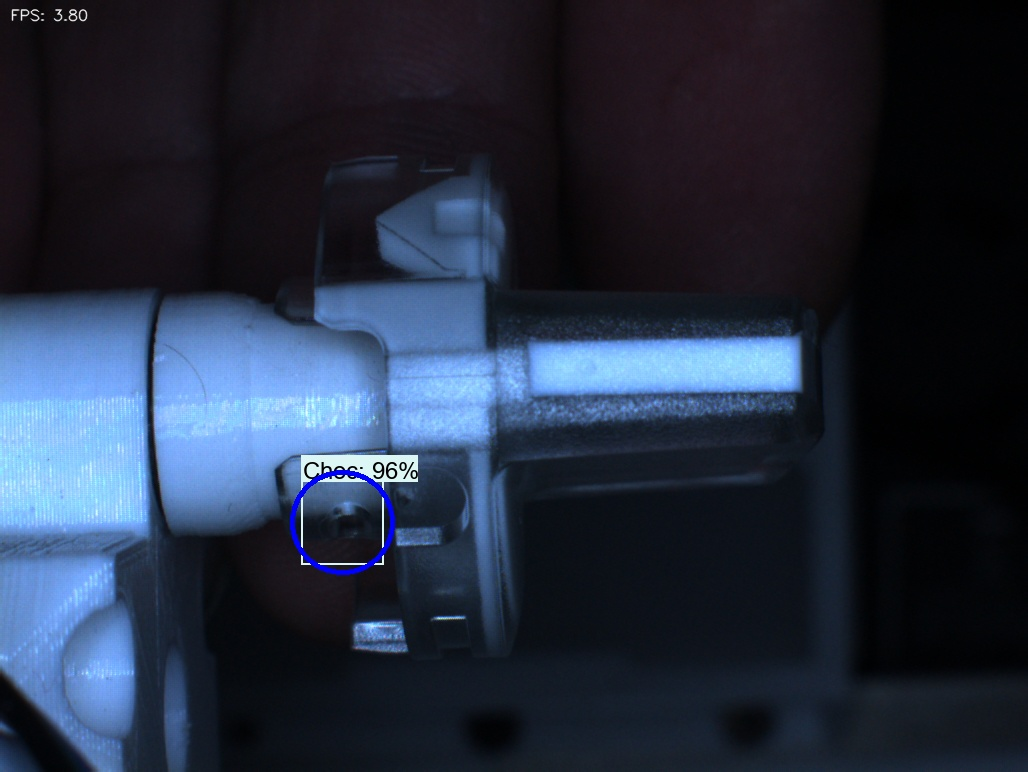DentOk: (350, 185, 425, 276)
